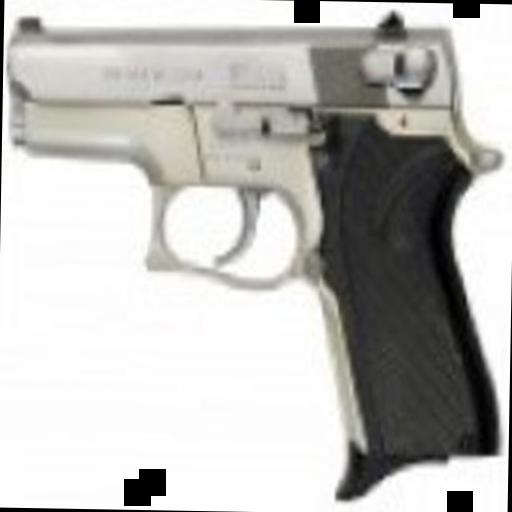Handgun: (0, 6, 508, 493)
